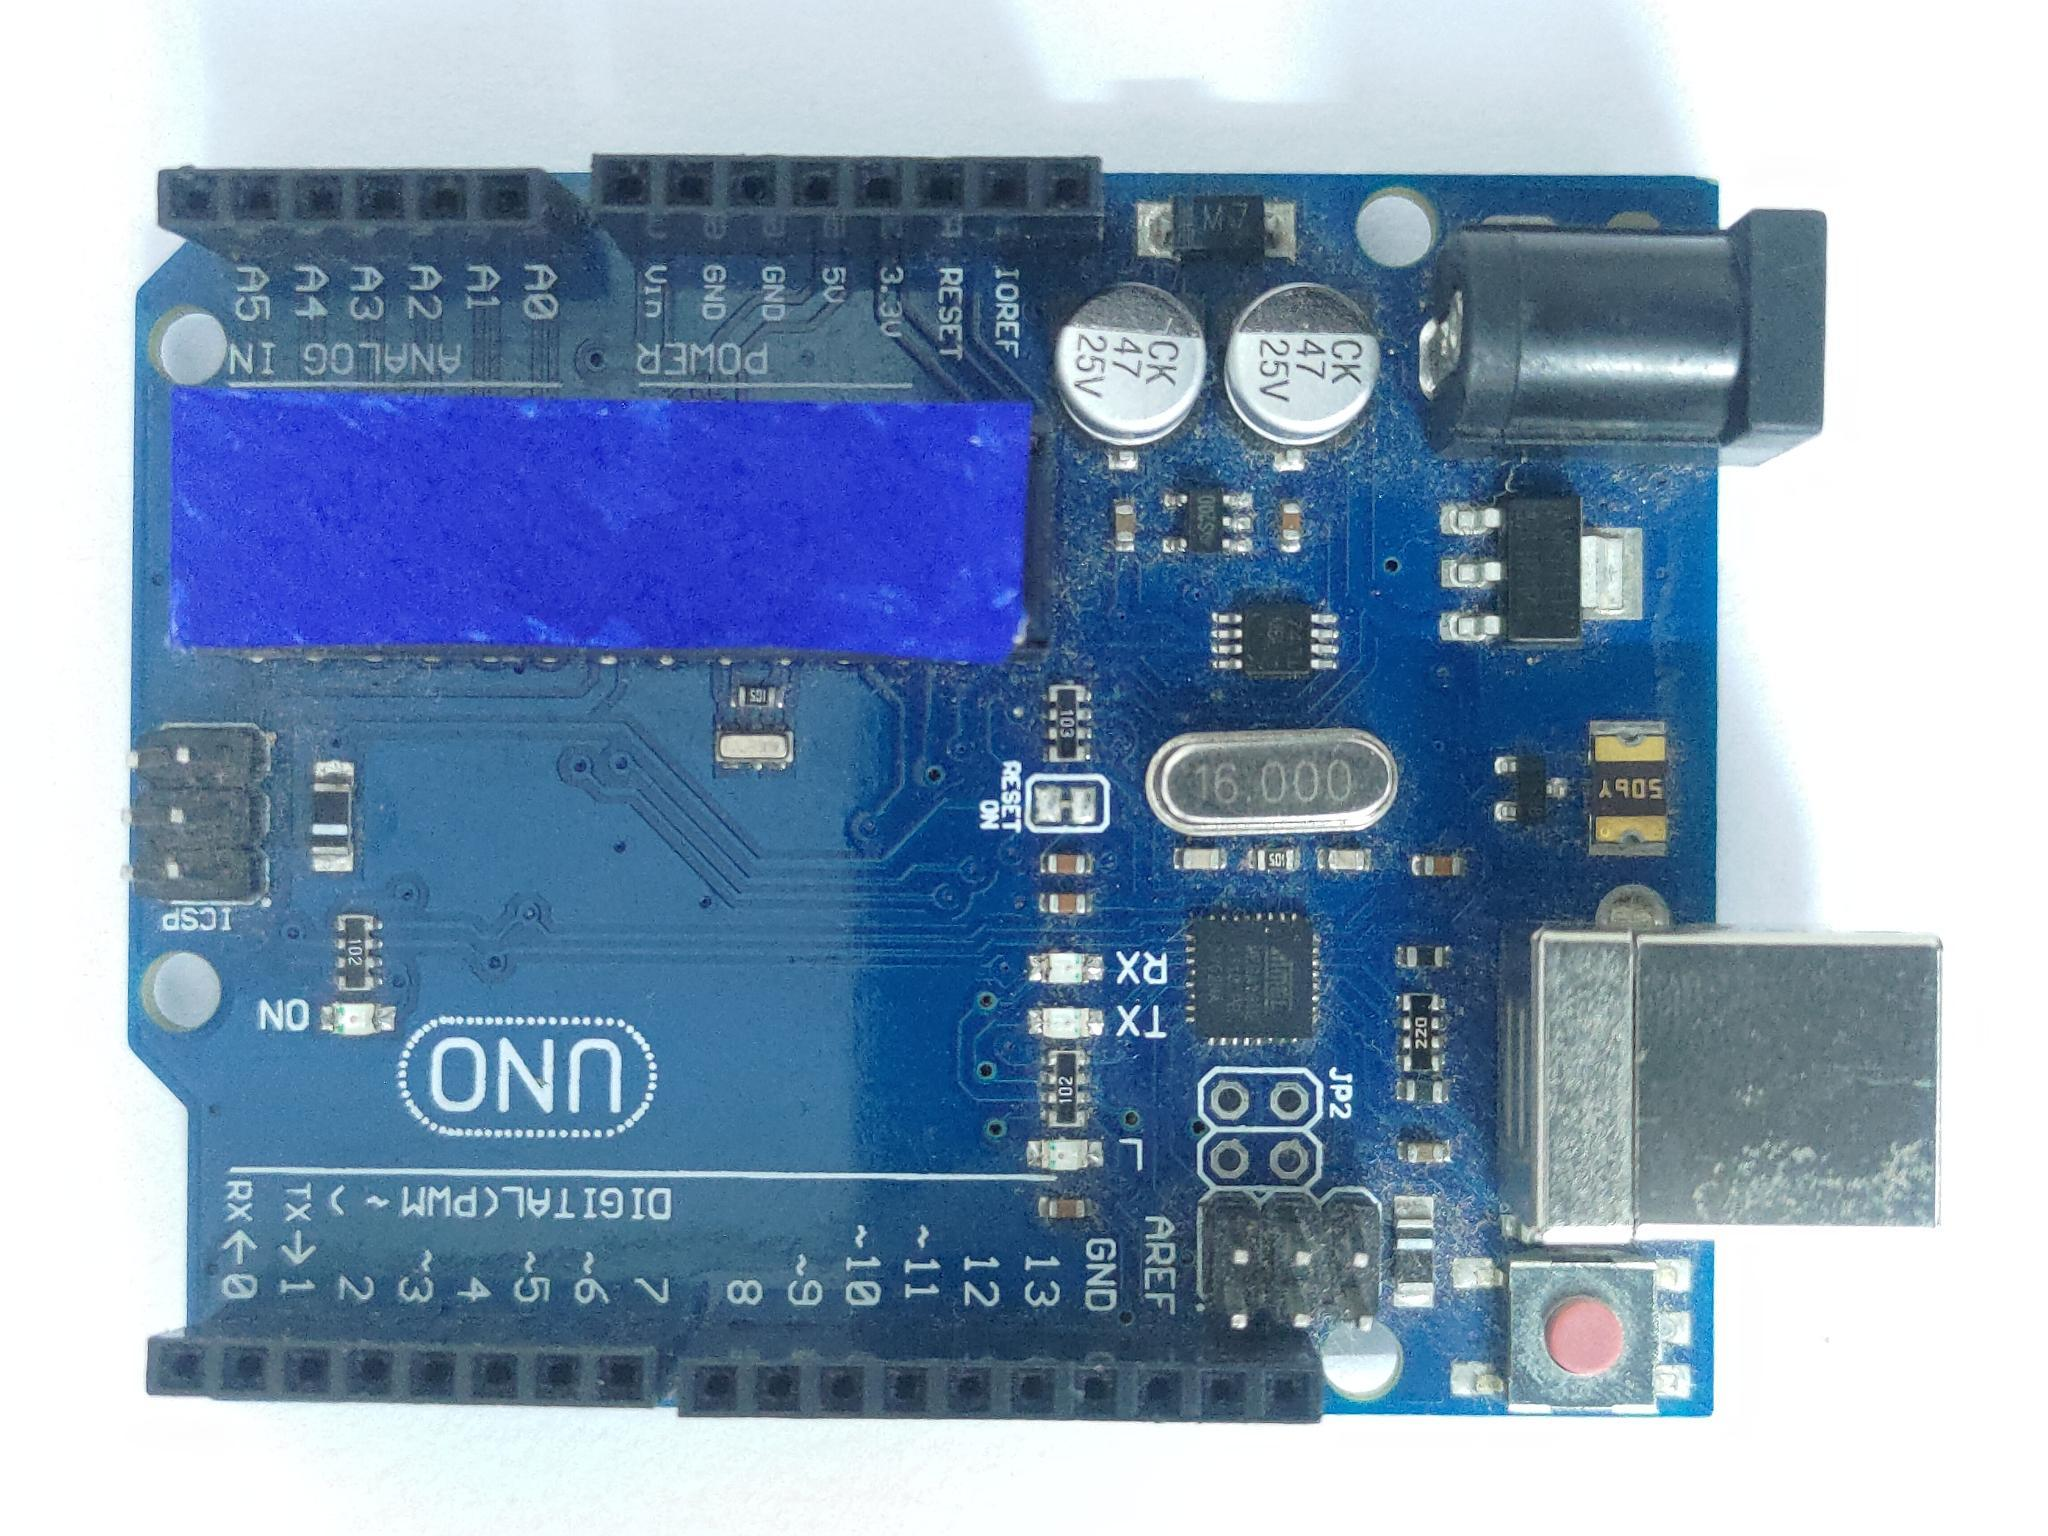16MHz Crystal Oscillator Missing: (1143, 728, 1397, 836)
5V Regulator: (1500, 495, 1580, 644)
ATmega328P MC Missing: (168, 387, 1032, 665)
CK47Capacitor: (1224, 284, 1380, 444), (1056, 284, 1205, 449)
Connecting Pins: (148, 1325, 1324, 1425), (160, 157, 1105, 257)
DC Power Port: (1421, 208, 1824, 465)
LED: (1027, 1136, 1105, 1171), (319, 1000, 397, 1036), (1027, 1008, 1105, 1041), (1027, 952, 1105, 984)
LM358: (1240, 603, 1313, 676)
Poly Fuse: (1588, 720, 1667, 857)
Reset Button: (1508, 1255, 1656, 1417)
USB Connector: (1500, 928, 1940, 1244)
USB-TTL Converter: (1188, 912, 1316, 1041)
